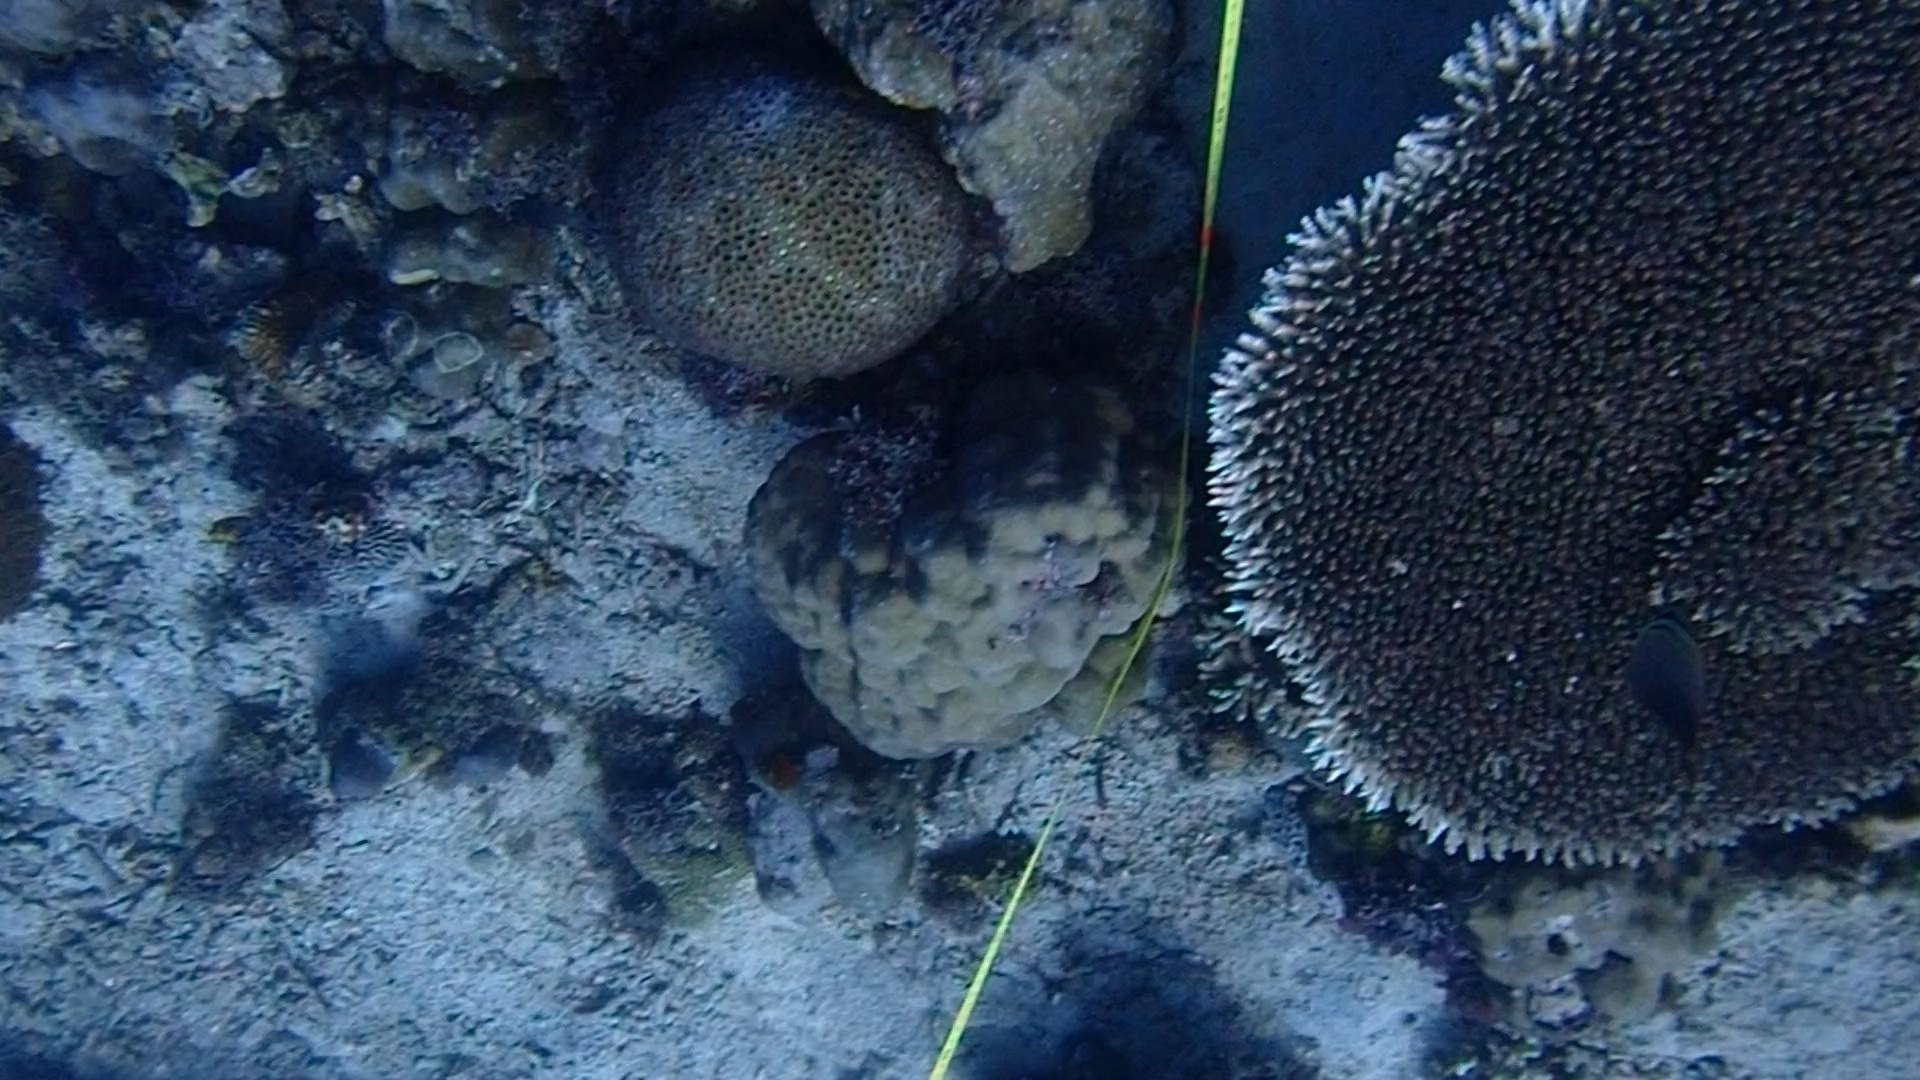Dark Blue Dory: (1625, 613, 1714, 764)
Light Fish: (505, 179, 588, 240)
